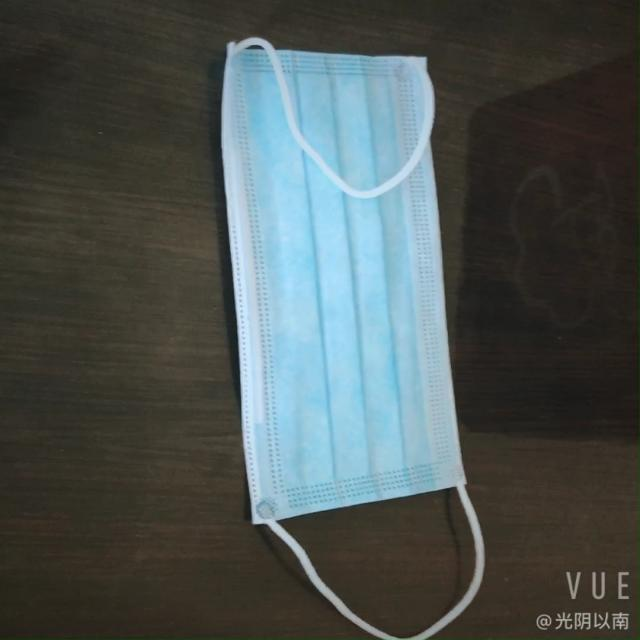non-organic waste: (218, 38, 469, 540)
